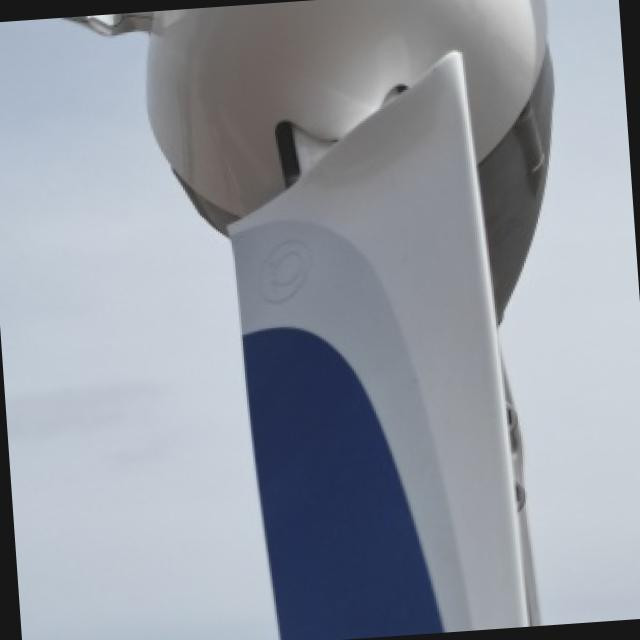healthy: (74, 0, 555, 640), (0, 17, 278, 640)
